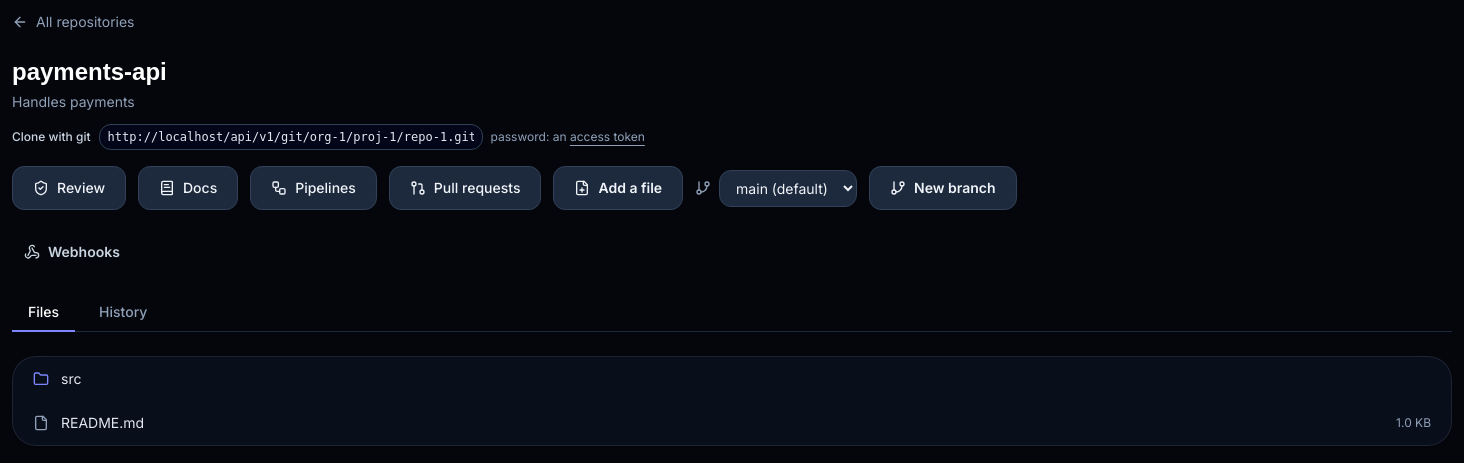
Test case: RepositoryBrowserPage › shows commit history with authorship on the History tab
Expected: the button "README.md 1.0 KB" is shown, [13,401,1451,445]
Click the tab "History" at (123, 313), box [83,294,163,332]
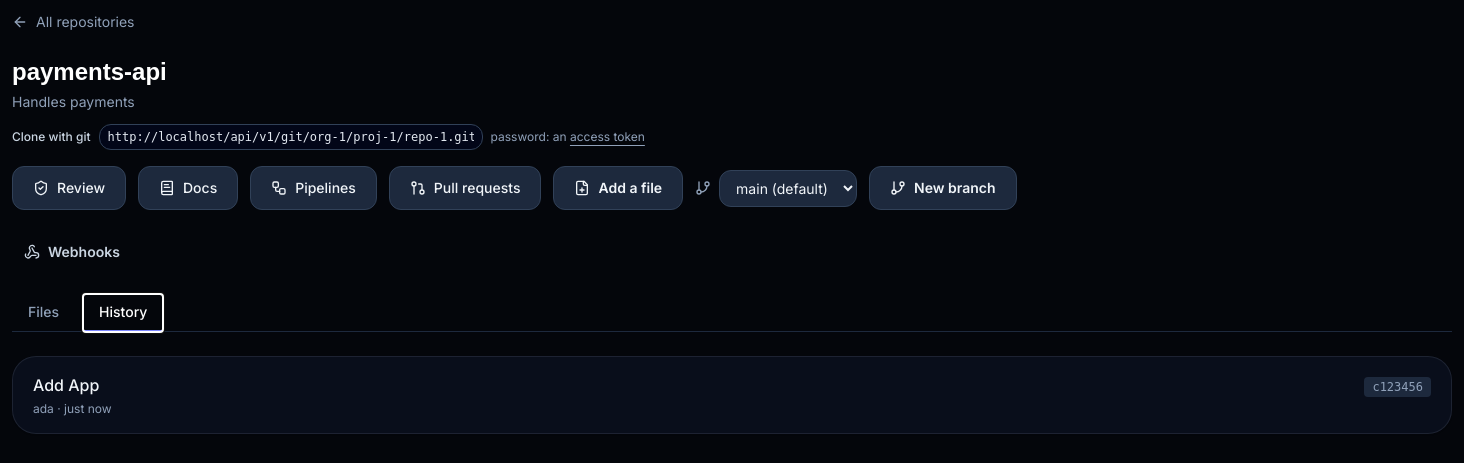
Expected: the text "Add App" is shown, [33,373,99,397]
Expected: the text "c123456" is shown, [1364,377,1431,397]
Expected: the text "ada · just now" is shown, [33,401,112,416]
